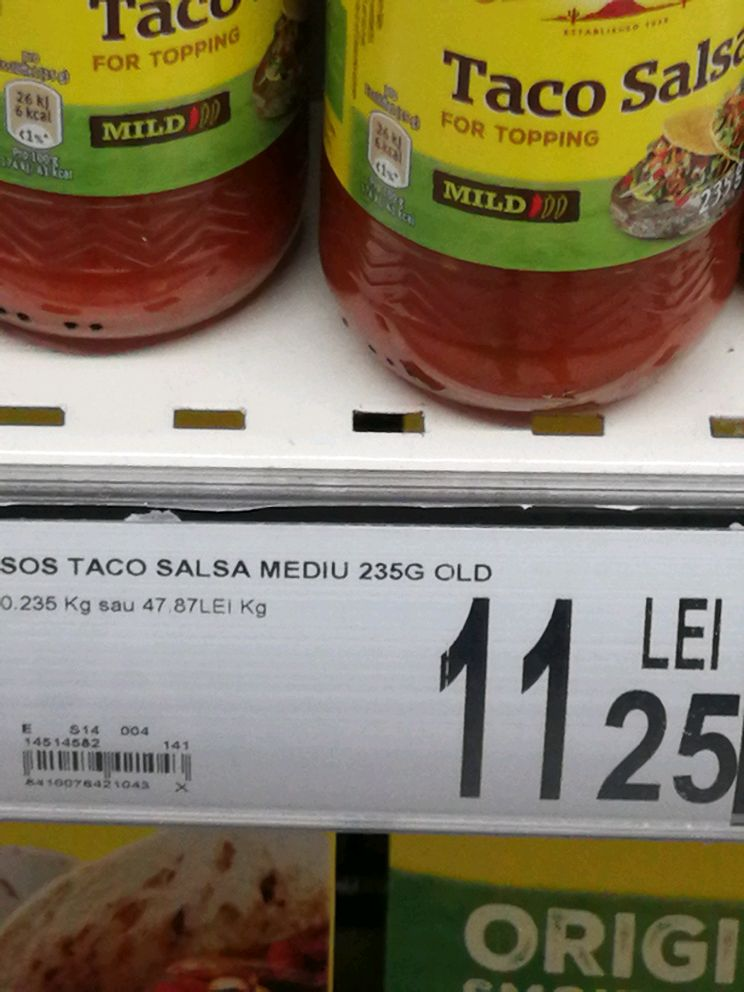price_bani: (590, 680, 744, 821)
price_lei: (424, 586, 583, 805)
price_tag: (1, 505, 744, 860)
product_id: (16, 777, 155, 797)
product_name: (1, 549, 500, 588)
